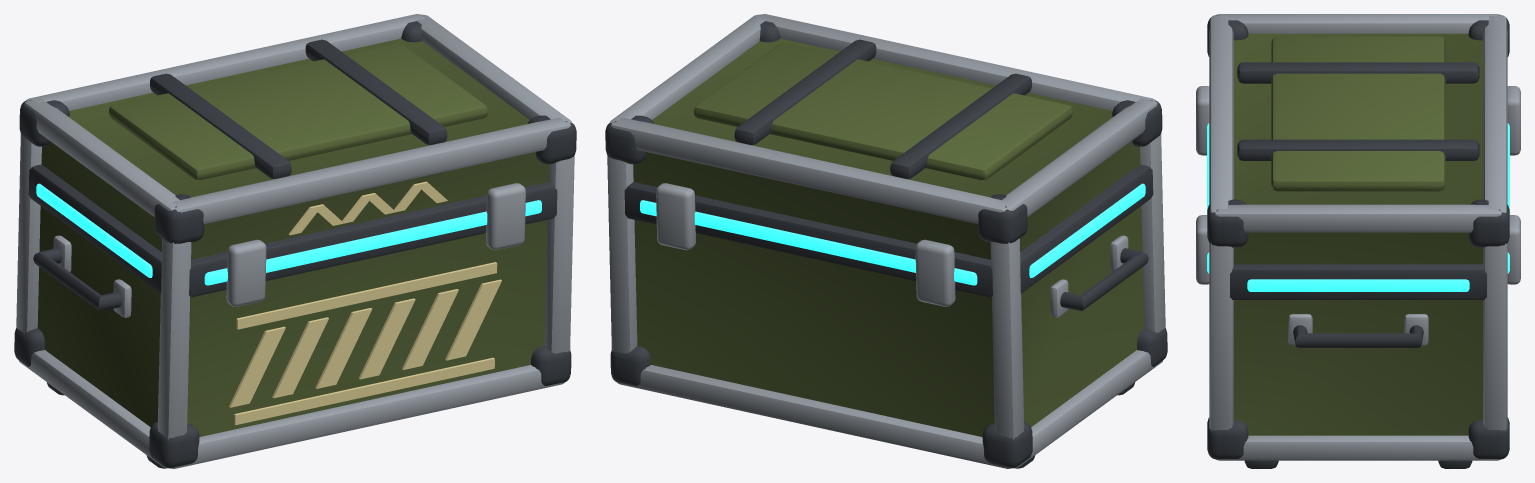
Rendered from loot-crate.glb.
3 renders of one model, left to right at view 1: azimuth 30°, elevation 25°; view 2: azimuth 150°, elevation 25°; view 3: azimuth 270°, elevation 25°, orthographic. The views are drawn at different scales.
Visible parts, largest first — view 1: LootCrate; view 2: LootCrate; view 3: LootCrate.
Part boxes in pixels (x1,y1,x2,y2): LootCrate: (14, 14, 576, 468); LootCrate: (605, 14, 1167, 468); LootCrate: (1196, 14, 1520, 468).
Size of the model in its own units: 1.06 by 0.645 by 0.671.
